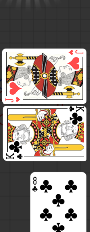8C: (31, 176, 38, 194)
JH: (67, 49, 84, 57)
